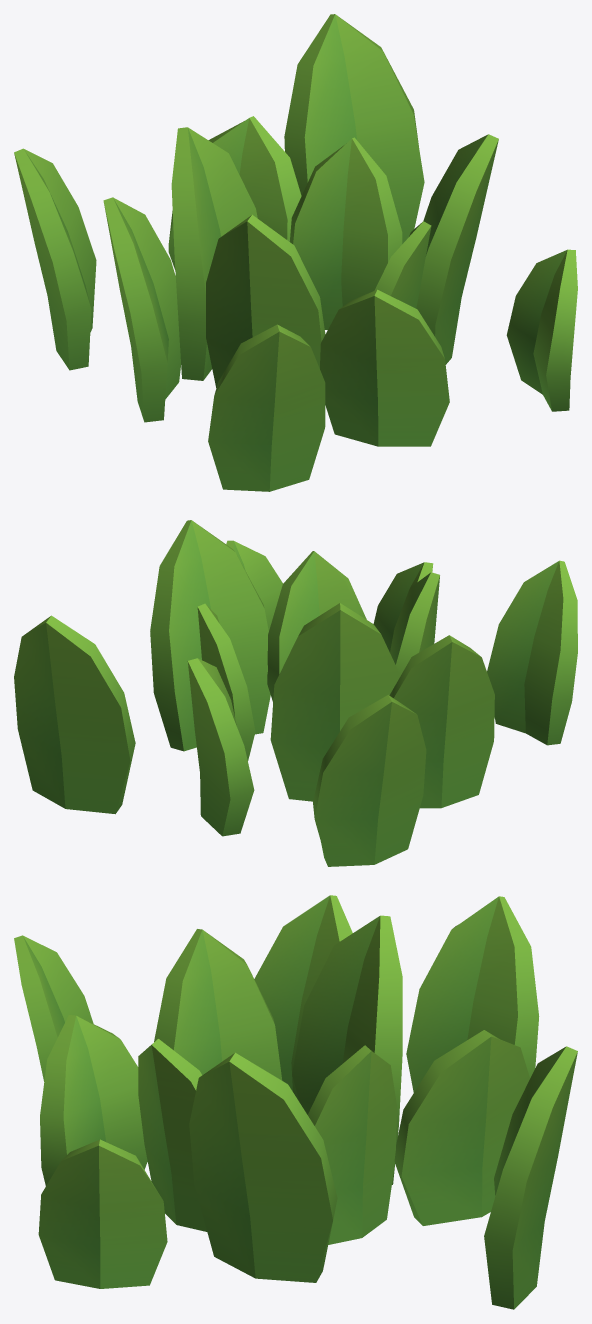
File: Grass1D.glb
3 views of the same model, one above another, from view 1: azimuth 30°, elevation 25°; view 2: azimuth 150°, elevation 25°; view 3: azimuth 270°, elevation 25° (orthographic). The views are drawn at different scales.
Parts seen in each view (by area): view 1: Grass_1_D_Color1; view 2: Grass_1_D_Color1; view 3: Grass_1_D_Color1.
Part boxes in pixels (box(x1,y1,x2,y2)): Grass_1_D_Color1: box(14, 14, 577, 491); Grass_1_D_Color1: box(14, 520, 577, 866); Grass_1_D_Color1: box(14, 895, 577, 1309).
Size of the model in its own units: 1.08 by 0.5885 by 1.18.
1 material, 1 textured.
